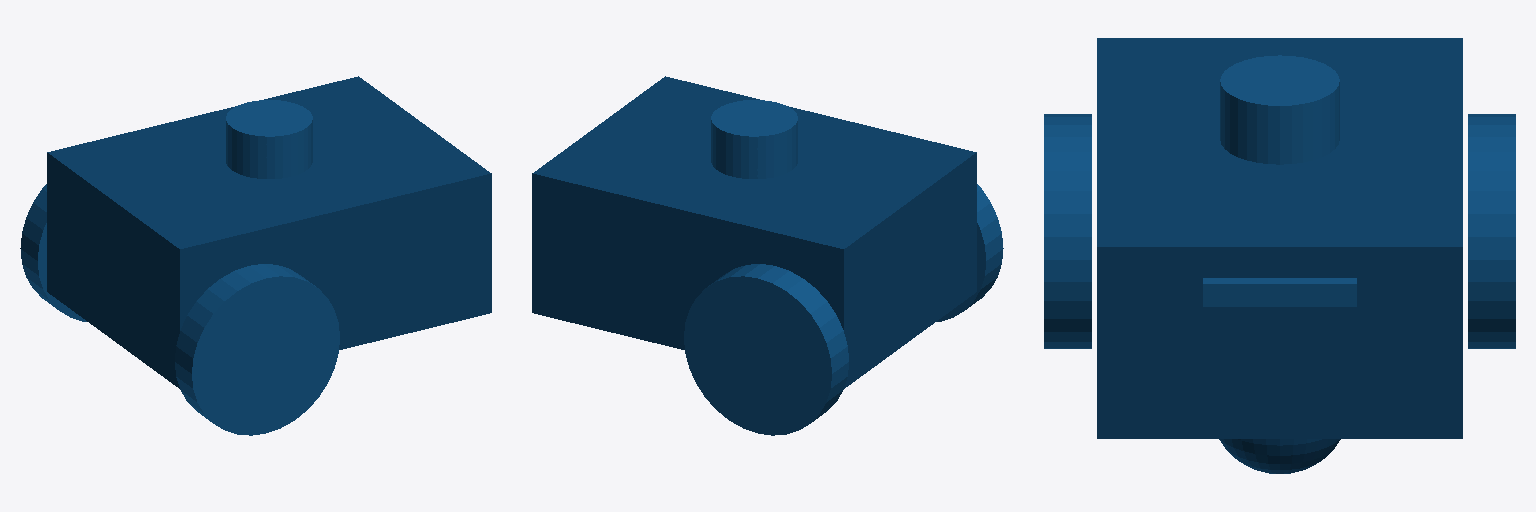
The robot description file, URDF, robot "sam_bot":
<?xml version="1.0" ?>
<!-- =================================================================================== -->
<!-- |    This document was autogenerated by xacro from sam_bot.xacro                  | -->
<!-- |    EDITING THIS FILE BY HAND IS NOT RECOMMENDED                                 | -->
<!-- =================================================================================== -->
<robot name="sam_bot">
  <!-- Robot Base -->
  <link name="base_link">
    <visual>
      <geometry>
        <box size="0.42 0.31 0.18"/>
      </geometry>
      <material name="DarkBlue">
        <color rgba="0.09 0.30 0.46 1.0"/>
      </material>
    </visual>
    <collision>
      <geometry>
        <box size="0.42 0.31 0.18"/>
      </geometry>
    </collision>
    <inertial>
      <origin rpy="1.5707963267948966 0 1.5707963267948966" xyz="0 0 0"/>
      <mass value="1"/>
      <inertia ixx="0.0174" ixy="0.0" ixz="0.0" iyy="0.02270833333333333" iyz="0.0" izz="0.010708333333333334"/>
    </inertial>
  </link>
  <!-- Robot Footprint -->
  <link name="base_footprint">
    <inertial>
      <origin rpy="1.5707963267948966 0 1.5707963267948966" xyz="0 0 0"/>
      <mass value="0"/>
      <inertia ixx="0.0" ixy="0.0" ixz="0.0" iyy="0.0" iyz="0.0" izz="0.0"/>
    </inertial>
  </link>
  <joint name="base_joint" type="fixed">
    <parent link="base_link"/>
    <child link="base_footprint"/>
    <origin rpy="0 0 0" xyz="0.0 0.0 -0.15000000000000002"/>
  </joint>
  <link name="drivewhl_l_link">
    <visual>
      <origin rpy="1.5707963267948966 0 0" xyz="0 0 0"/>
      <geometry>
        <cylinder length="0.04" radius="0.1"/>
      </geometry>
      <material name="LightBlue">
        <color rgba="0.11 0.37 0.56 1.0"/>
      </material>
    </visual>
    <collision>
      <origin rpy="1.5707963267948966 0 0" xyz="0 0 0"/>
      <geometry>
        <cylinder length="0.04" radius="0.1"/>
      </geometry>
    </collision>
    <inertial>
      <origin rpy="1.5707963267948966 0 0" xyz="0 0 0"/>
      <mass value="2.5"/>
      <inertia ixx="0.006583333333333334" ixy="0" ixz="0" iyy="0.006583333333333334" iyz="0" izz="0.012500000000000002"/>
    </inertial>
  </link>
  <joint name="drivewhl_l_joint" type="continuous">
    <parent link="base_link"/>
    <child link="drivewhl_l_link"/>
    <origin rpy="0 0 0" xyz="-0.12 0.18 -0.05"/>
    <axis xyz="0 1 0"/>
    <dynamics damping="0.2"/>
  </joint>
  <link name="drivewhl_r_link">
    <visual>
      <origin rpy="1.5707963267948966 0 0" xyz="0 0 0"/>
      <geometry>
        <cylinder length="0.04" radius="0.1"/>
      </geometry>
      <material name="LightBlue">
        <color rgba="0.11 0.37 0.56 1.0"/>
      </material>
    </visual>
    <collision>
      <origin rpy="1.5707963267948966 0 0" xyz="0 0 0"/>
      <geometry>
        <cylinder length="0.04" radius="0.1"/>
      </geometry>
    </collision>
    <inertial>
      <origin rpy="1.5707963267948966 0 0" xyz="0 0 0"/>
      <mass value="2.5"/>
      <inertia ixx="0.006583333333333334" ixy="0" ixz="0" iyy="0.006583333333333334" iyz="0" izz="0.012500000000000002"/>
    </inertial>
  </link>
  <joint name="drivewhl_r_joint" type="continuous">
    <parent link="base_link"/>
    <child link="drivewhl_r_link"/>
    <origin rpy="0 0 0" xyz="-0.12 -0.18 -0.05"/>
    <axis xyz="0 1 0"/>
    <dynamics damping="0.2"/>
  </joint>
  <link name="front_caster">
    <visual>
      <geometry>
        <sphere radius="0.060000000000000026"/>
      </geometry>
      <material name="DarkBlue">
        <color rgba="0.09 0.30 0.46 1.0"/>
      </material>
    </visual>
    <collision>
      <origin rpy="0 0 0" xyz="0 0 0"/>
      <geometry>
        <sphere radius="0.060000000000000026"/>
      </geometry>
    </collision>
    <inertial>
      <mass value="0.005"/>
      <inertia ixx="7.200000000000006e-06" ixy="0.0" ixz="0.0" iyy="7.200000000000006e-06" iyz="0.0" izz="7.200000000000006e-06"/>
    </inertial>
  </link>
  <joint name="caster_joint" type="fixed">
    <parent link="base_link"/>
    <child link="front_caster"/>
    <origin rpy="0 0 0" xyz="0.14 0.0 -0.09"/>
  </joint>
  <link name="imu_link">
    <visual>
      <geometry>
        <box size="0.1 0.1 0.1"/>
      </geometry>
    </visual>
    <collision>
      <geometry>
        <box size="0.1 0.1 0.1"/>
      </geometry>
    </collision>
    <inertial>
      <origin rpy="1.5707963267948966 0 1.5707963267948966" xyz="0 0 0"/>
      <mass value="0.001"/>
      <inertia ixx="1.6666666666666669e-06" ixy="0.0" ixz="0.0" iyy="1.6666666666666669e-06" iyz="0.0" izz="1.6666666666666669e-06"/>
    </inertial>
  </link>
  <gazebo reference="imu_link">
    <sensor name="imu_sensor" type="imu">
      <ignition_frame_id>imu_link</ignition_frame_id>
      <plugin filename="ignition-gazebo-imu-system" name="ignition::gazebo::systems::Imu">
      </plugin>
      <topic>imu</topic>
      <always_on>true</always_on>
      <update_rate>100</update_rate>
      <visualize>true</visualize>
      <imu>
        <angular_velocity>
          <x>
            <noise type="gaussian">
              <mean>0.0</mean>
              <stddev>2e-4</stddev>
              <bias_mean>0.0000075</bias_mean>
              <bias_stddev>0.0000008</bias_stddev>
            </noise>
          </x>
          <y>
            <noise type="gaussian">
              <mean>0.0</mean>
              <stddev>2e-4</stddev>
              <bias_mean>0.0000075</bias_mean>
              <bias_stddev>0.0000008</bias_stddev>
            </noise>
          </y>
          <z>
            <noise type="gaussian">
              <mean>0.0</mean>
              <stddev>2e-4</stddev>
              <bias_mean>0.0000075</bias_mean>
              <bias_stddev>0.0000008</bias_stddev>
            </noise>
          </z>
        </angular_velocity>
        <linear_acceleration>
          <x>
            <noise type="gaussian">
              <mean>0.0</mean>
              <stddev>1.7e-2</stddev>
              <bias_mean>0.1</bias_mean>
              <bias_stddev>0.001</bias_stddev>
            </noise>
          </x>
          <y>
            <noise type="gaussian">
              <mean>0.0</mean>
              <stddev>1.7e-2</stddev>
              <bias_mean>0.1</bias_mean>
              <bias_stddev>0.001</bias_stddev>
            </noise>
          </y>
          <z>
            <noise type="gaussian">
              <mean>0.0</mean>
              <stddev>1.7e-2</stddev>
              <bias_mean>0.1</bias_mean>
              <bias_stddev>0.001</bias_stddev>
            </noise>
          </z>
        </linear_acceleration>
      </imu>
    </sensor>
  </gazebo>
  <joint name="imu_joint" type="fixed">
    <parent link="base_link"/>
    <child link="imu_link"/>
    <origin xyz="0 0 0.01"/>
  </joint>
  <ros2_control name="IgnitionSystem" type="system">
    <hardware>
      <plugin>ign_ros2_control/IgnitionSystem</plugin>
    </hardware>
    <joint name="drivewhl_l_joint">
      <command_interface name="velocity">
        <param name="min">-1</param>
        <param name="max">1</param>
      </command_interface>
      <state_interface name="position"/>
      <state_interface name="velocity"/>
    </joint>
    <joint name="drivewhl_r_joint">
      <command_interface name="velocity">
        <param name="min">-1</param>
        <param name="max">1</param>
      </command_interface>
      <state_interface name="position"/>
      <state_interface name="velocity"/>
    </joint>
  </ros2_control>
  <gazebo>
    <plugin filename="ign_ros2_control-system" name="ign_ros2_control::IgnitionROS2ControlPlugin">
      <parameters>[local-path]/AESIR/simulation_rescue_major/src/install/robot_description/share/robot_description/config/diff_drive_controller_velocity.yaml</parameters>
    </plugin>
  </gazebo>
  <link name="lidar_link">
    <inertial>
      <origin rpy="0 0 0" xyz="0 0 0"/>
      <mass value="0.125"/>
      <inertia ixx="0.001" ixy="0" ixz="0" iyy="0.001" iyz="0" izz="0.001"/>
    </inertial>
    <collision>
      <origin rpy="0 0 0" xyz="0 0 0"/>
      <geometry>
        <cylinder length="0.055" radius="0.0508"/>
      </geometry>
    </collision>
    <visual>
      <origin rpy="0 0 0" xyz="0 0 0"/>
      <geometry>
        <cylinder length="0.055" radius="0.0508"/>
      </geometry>
      <material name="LightBlue">
        <color rgba="0.11 0.37 0.56 1.0"/>
      </material>
    </visual>
  </link>
  <joint name="lidar_joint" type="fixed">
    <parent link="base_link"/>
    <child link="lidar_link"/>
    <origin rpy="0 0 0" xyz="0 0 0.12"/>
  </joint>
  <gazebo reference="lidar_link">
    <sensor name="lidar" type="gpu_lidar">
      <ignition_frame_id>lidar_link</ignition_frame_id>
      <topic>scan</topic>
      <always_on>true</always_on>
      <visualize>true</visualize>
      <update_rate>5</update_rate>
      <ray>
        <scan>
          <horizontal>
            <samples>360</samples>
            <resolution>1.000000</resolution>
            <min_angle>0.000000</min_angle>
            <max_angle>6.280000</max_angle>
          </horizontal>
        </scan>
        <range>
          <min>0.120000</min>
          <max>3.5</max>
          <resolution>0.015000</resolution>
        </range>
        <noise>
          <type>gaussian</type>
          <mean>0.0</mean>
          <stddev>0.01</stddev>
        </noise>
      </ray>
    </sensor>
  </gazebo>
  <link name="camera_link">
    <visual>
      <origin rpy="0 0 0" xyz="0 0 0"/>
      <geometry>
        <box size="0.015 0.130 0.022"/>
      </geometry>
      <material name="LightBlue">
        <color rgba="0.11 0.37 0.56 1.0"/>
      </material>
    </visual>
    <collision>
      <origin rpy="0 0 0" xyz="0 0 0"/>
      <geometry>
        <box size="0.015 0.130 0.022"/>
      </geometry>
    </collision>
    <inertial>
      <origin rpy="0 0 0" xyz="0 0 0"/>
      <mass value="0.035"/>
      <inertia ixx="0.001" ixy="0" ixz="0" iyy="0.001" iyz="0" izz="0.001"/>
    </inertial>
  </link>
  <joint name="camera_joint" type="fixed">
    <parent link="base_link"/>
    <child link="camera_link"/>
    <origin rpy="0 0 0" xyz="0.215 0 0.05"/>
  </joint>
  <link name="camera_frame"/>
  <joint name="camera_frame_joint" type="fixed">
    <origin rpy="-1.5707963267948966 0 -1.5707963267948966" xyz="0 0 0"/>
    <parent link="camera_link"/>
    <child link="camera_frame"/>
  </joint>
  <gazebo reference="camera_link">
    <sensor name="robot_cam" type="camera">
      <camera>
        <horizontal_fov>1.047</horizontal_fov>
        <image>
          <width>320</width>
          <height>240</height>
        </image>
        <clip>
          <near>0.1</near>
          <far>100</far>
        </clip>
      </camera>
      <always_on>1</always_on>
      <update_rate>30</update_rate>
      <visualize>true</visualize>
      <topic>robot_cam</topic>
      <enable_metrics>true</enable_metrics>
    </sensor>
  </gazebo>
</robot>

--- Facts derived from the render (not from the file) ---
3 views of the same robot in one strip: view 1: azimuth 30°, elevation 25°; view 2: azimuth 150°, elevation 25°; view 3: azimuth 270°, elevation 25° (orthographic).
Robot: sam_bot — 9 links, 8 joints (2 continuous, 6 fixed); root link base_link; default pose: all joints at 0.
Visible links, largest first — view 1: base_link, drivewhl_r_link, lidar_link, drivewhl_l_link; view 2: base_link, drivewhl_l_link, lidar_link, drivewhl_r_link; view 3: base_link, lidar_link, drivewhl_l_link, drivewhl_r_link, camera_link, front_caster.
Link boxes in pixels (x1,y1,x2,y2): base_link: (47,76,491,388); drivewhl_r_link: (175,264,339,435); lidar_link: (226,100,312,178); drivewhl_l_link: (20,184,86,321); base_link: (532,76,976,388); drivewhl_l_link: (684,264,848,435); lidar_link: (711,100,797,178); drivewhl_r_link: (937,184,1003,321); base_link: (1097,38,1462,438); lidar_link: (1220,55,1339,164); drivewhl_l_link: (1468,114,1515,348); drivewhl_r_link: (1044,114,1091,348); camera_link: (1203,278,1356,306); front_caster: (1219,439,1340,473).
Size in the robot's own frame: 0.4425 by 0.4 by 0.2975 metres.
Geometry: primitives only (box / cylinder / sphere), no mesh files.
